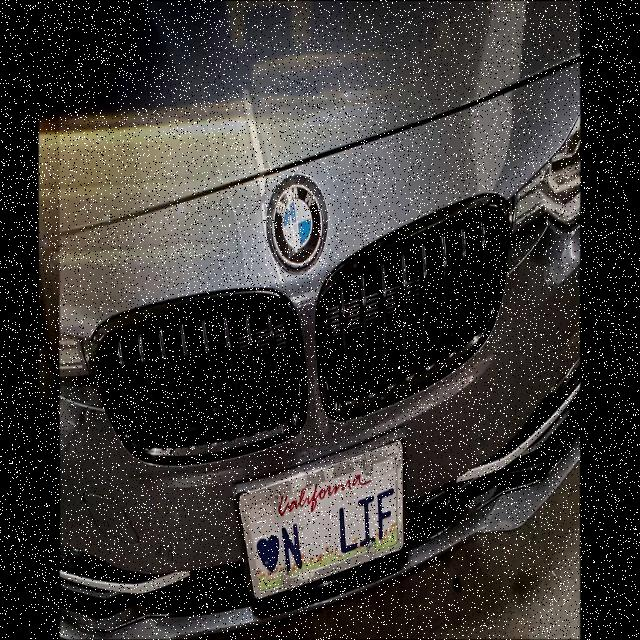licenseplate: (225, 424, 426, 618)
